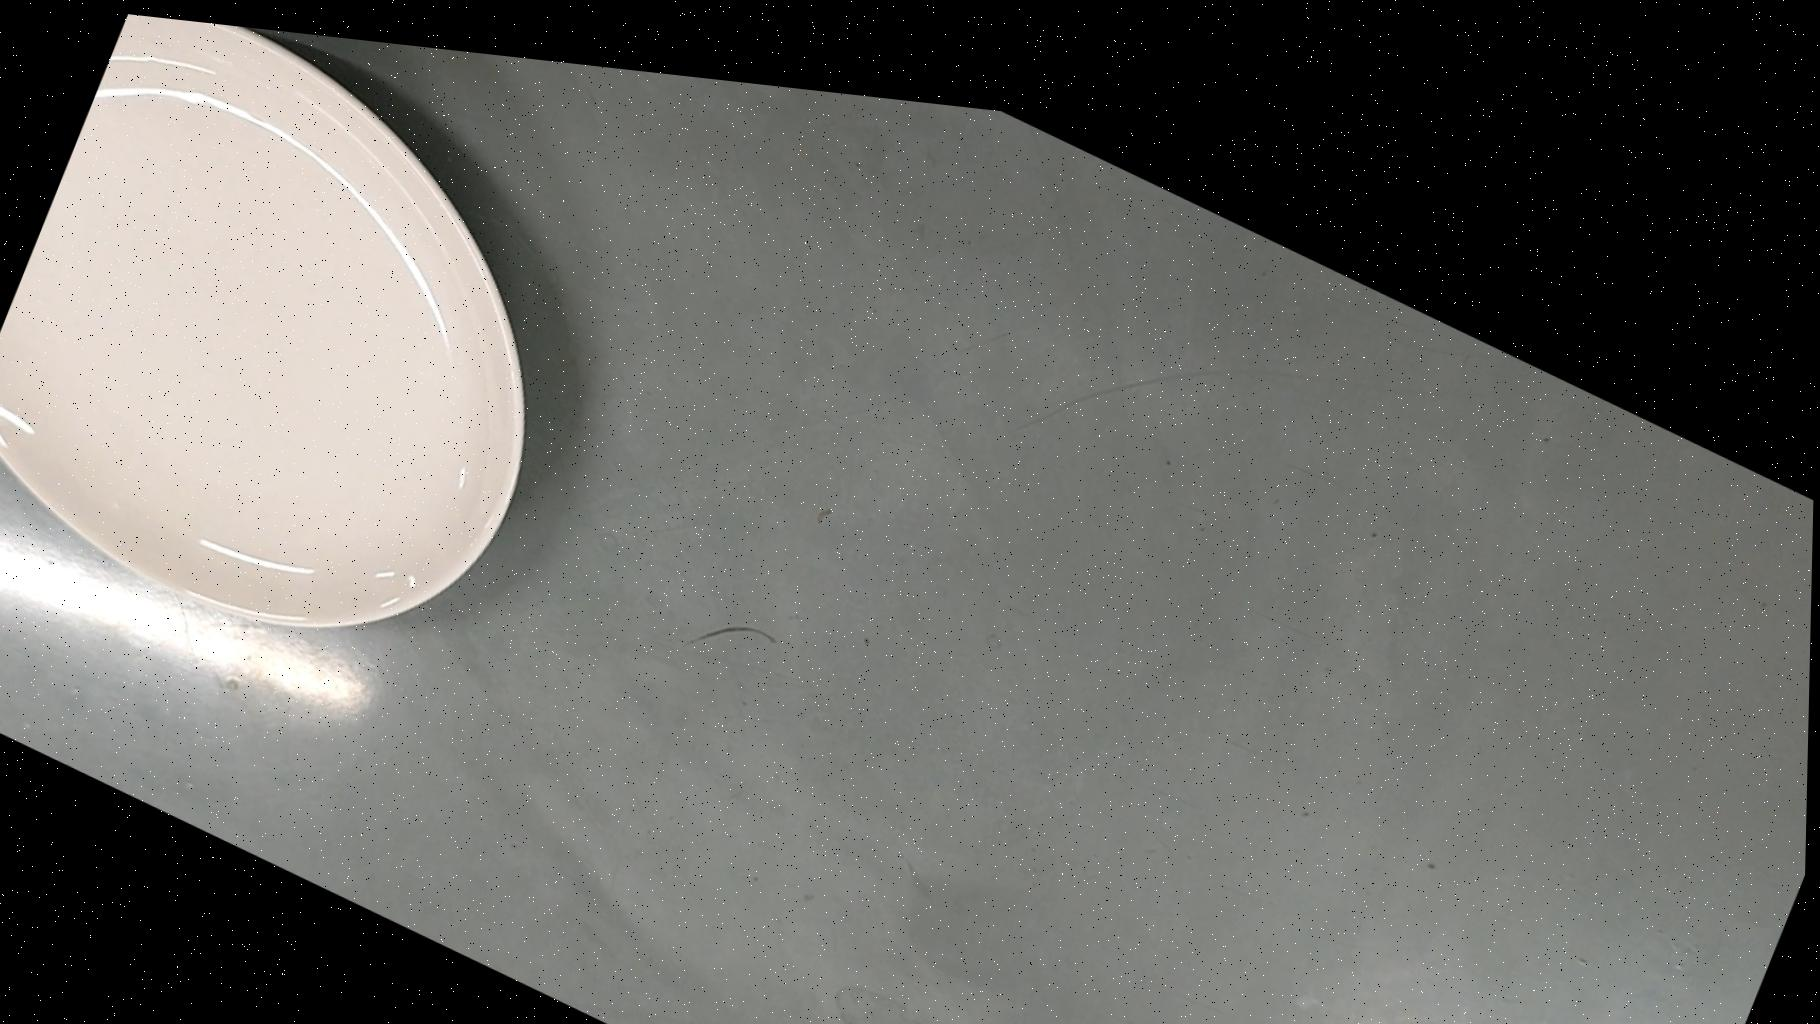plate: (0, 0, 629, 725)
